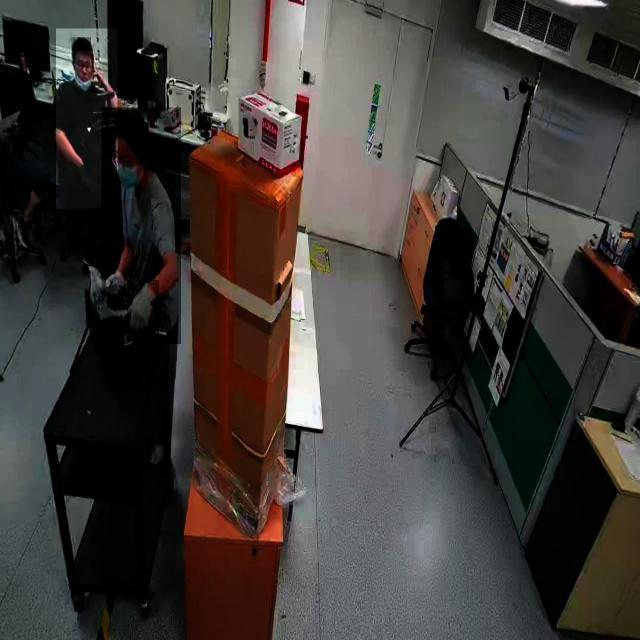gloves: (126, 280, 160, 342)
